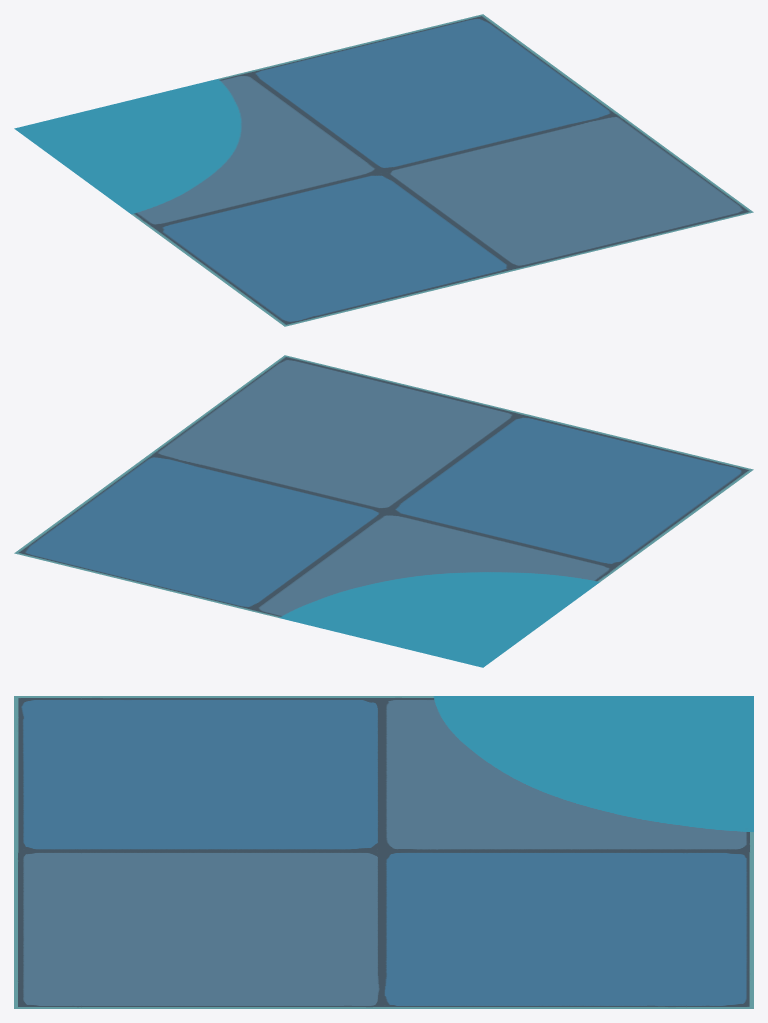
File: CornerTile.fbx
3 renders of one model, top to bottom at view 1: azimuth 30°, elevation 25°; view 2: azimuth 150°, elevation 25°; view 3: azimuth 270°, elevation 25°, orthographic. The views are drawn at different scales.
Parts seen in each view (by area): view 1: Corner Tile; view 2: Corner Tile; view 3: Corner Tile.
Boxes of the visible parts, box(x1,y1,x2,y2) form: Corner Tile: box(14, 14, 753, 326); Corner Tile: box(14, 355, 753, 667); Corner Tile: box(14, 696, 753, 1008).
Bounding box in the file's own units: 200 × 3.26e-05 × 200.
Materials: 1 (1 with a texture image).
